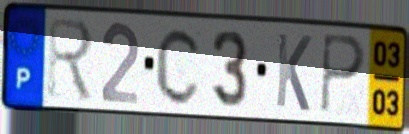2: (99, 19, 142, 107)
3: (209, 28, 251, 110)
C: (154, 24, 205, 108)
K: (273, 29, 314, 115)
P: (319, 30, 368, 117)
R: (45, 14, 97, 105)
